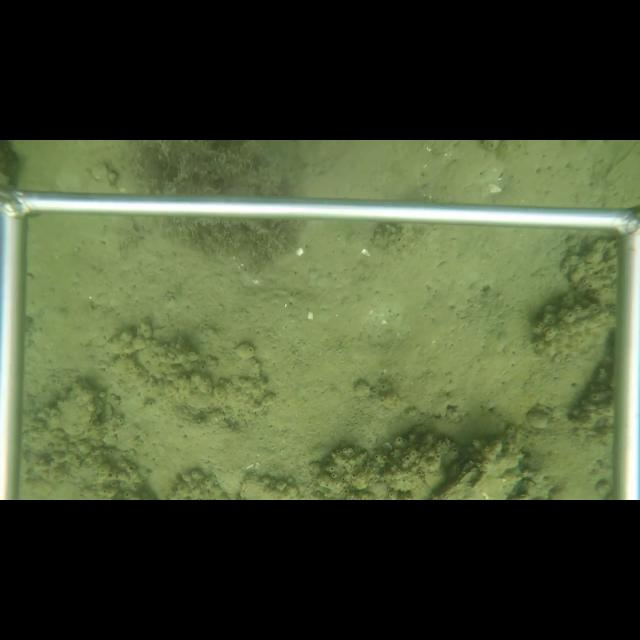Oyster-Closed: (57, 383, 103, 440), (434, 460, 482, 500)
